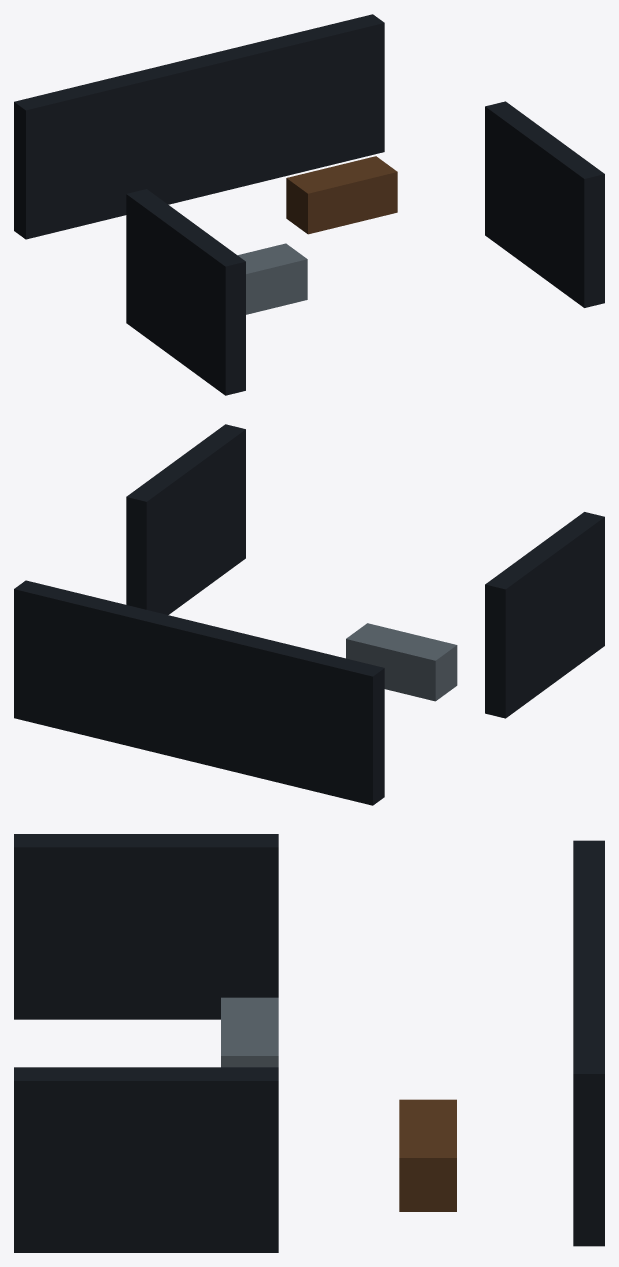
The model's file is module.breach_room_two_cover.glb.
3 renders of one model, top to bottom at view 1: azimuth 30°, elevation 25°; view 2: azimuth 150°, elevation 25°; view 3: azimuth 270°, elevation 25°, orthographic. The views are drawn at different scales.
Parts seen in each view (by area): view 1: back_wall, right_jamb, left_jamb, far_cover, near_cover; view 2: back_wall, left_jamb, right_jamb, near_cover; view 3: right_jamb, left_jamb, back_wall, far_cover, near_cover.
Part boxes in pixels (x1=…): back_wall: x1=14, y1=14, x2=384, y2=239; right_jamb: x1=485, y1=101, x2=604, y2=307; left_jamb: x1=126, y1=189, x2=245, y2=395; far_cover: x1=286, y1=156, x2=397, y2=234; near_cover: x1=238, y1=243, x2=307, y2=314; back_wall: x1=14, y1=580, x2=384, y2=805; left_jamb: x1=485, y1=512, x2=604, y2=718; right_jamb: x1=126, y1=424, x2=245, y2=614; near_cover: x1=346, y1=623, x2=457, y2=701; right_jamb: x1=14, y1=1067, x2=278, y2=1252; left_jamb: x1=14, y1=834, x2=278, y2=1019; back_wall: x1=573, y1=840, x2=604, y2=1246; far_cover: x1=399, y1=1099, x2=456, y2=1211; near_cover: x1=221, y1=997, x2=278, y2=1067.
Size of the model in its own units: 10.15 by 3.3 by 10.27.
